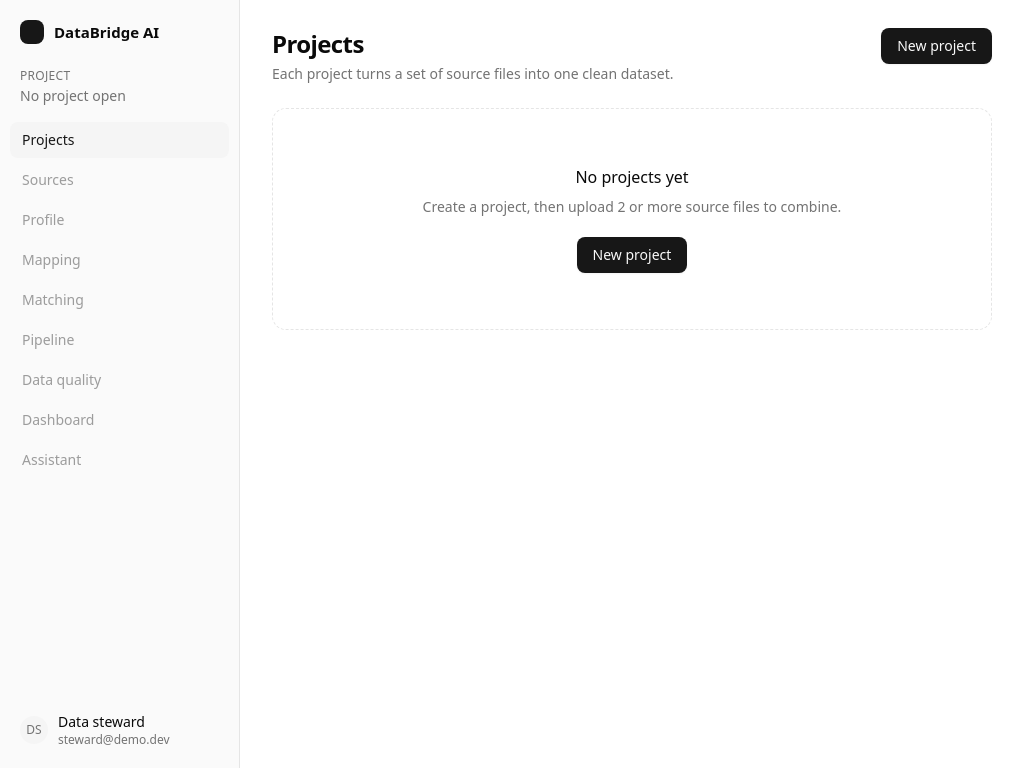
Test case: new project dialog › creates the project, confirms it and opens its sources step
The image size is (1024, 768).
Click the 1st button "New project": [937, 46] box [881, 28, 992, 64]
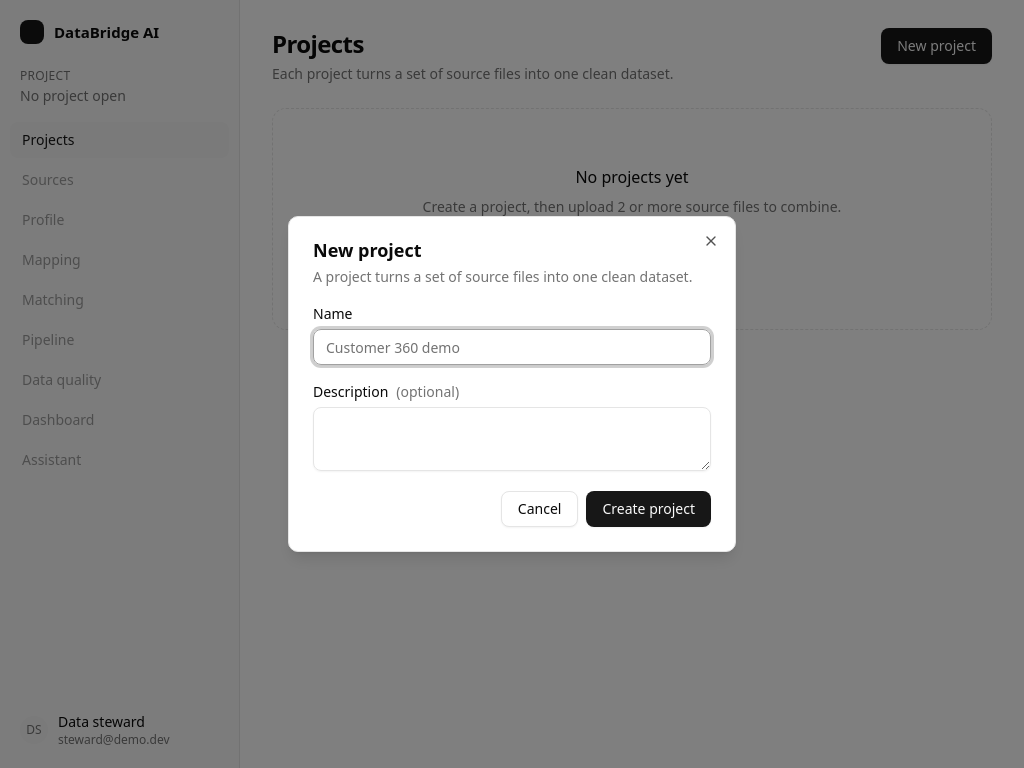
In the field labelled "Name": [512, 347] box [313, 329, 711, 365], type "Pharma product master"
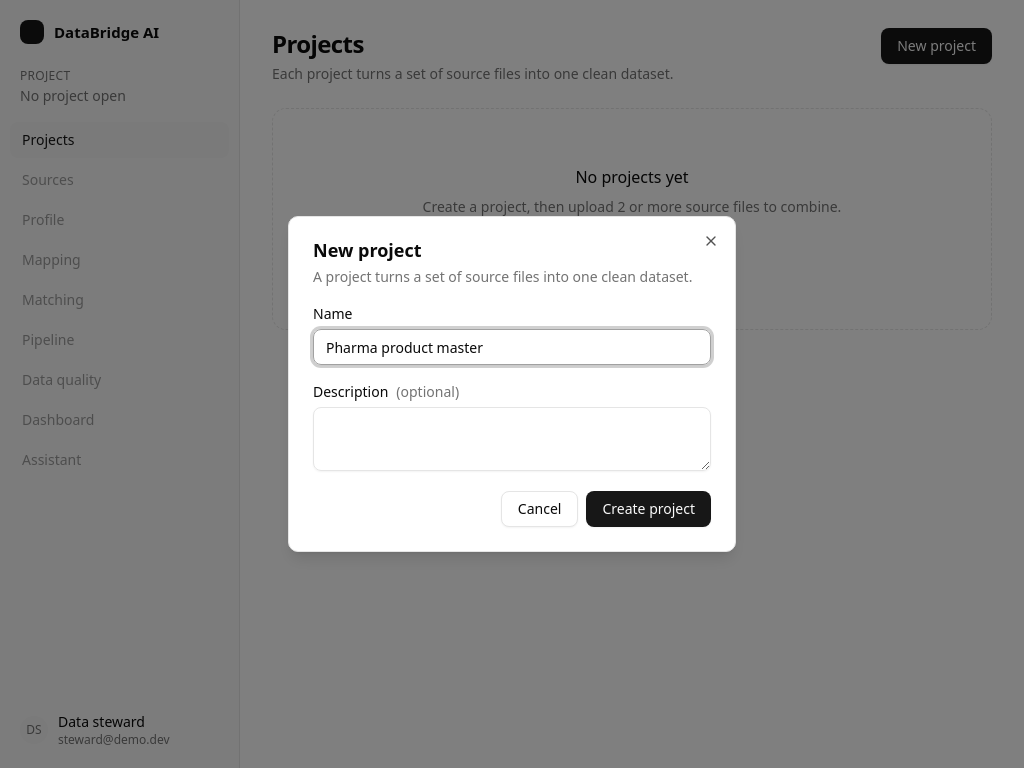
In the text box labelled "Description (optional)": [512, 439] box [313, 407, 711, 471], type "SKU clean-up"
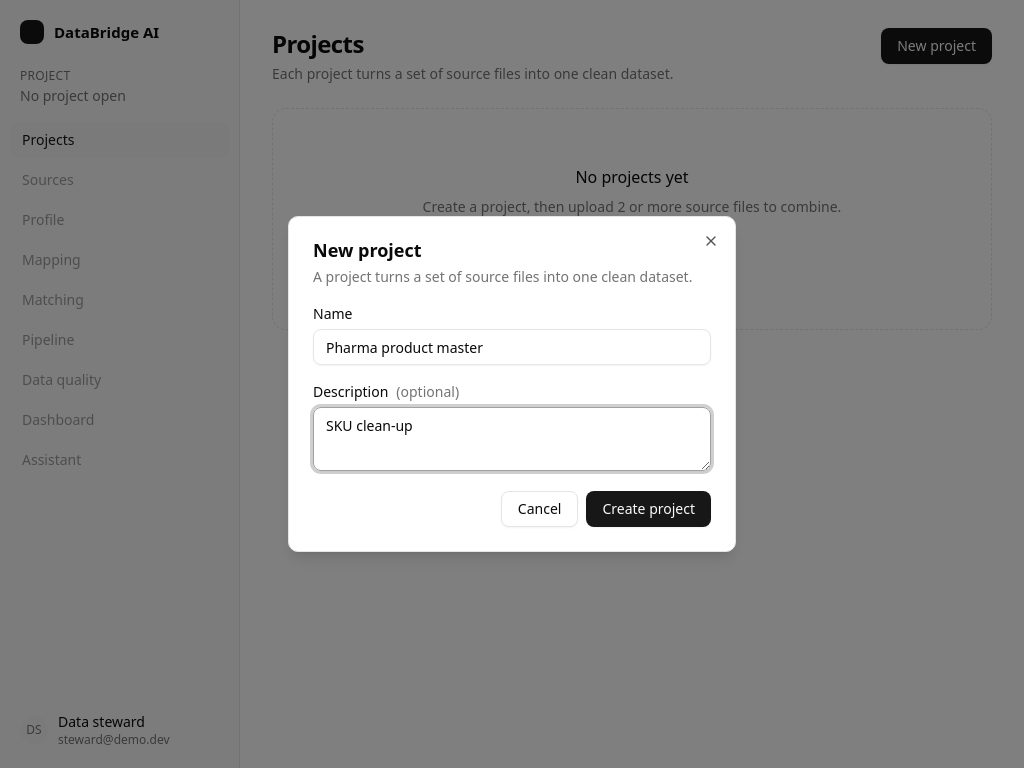
Click the button "Create project": [649, 509] box [586, 491, 711, 527]
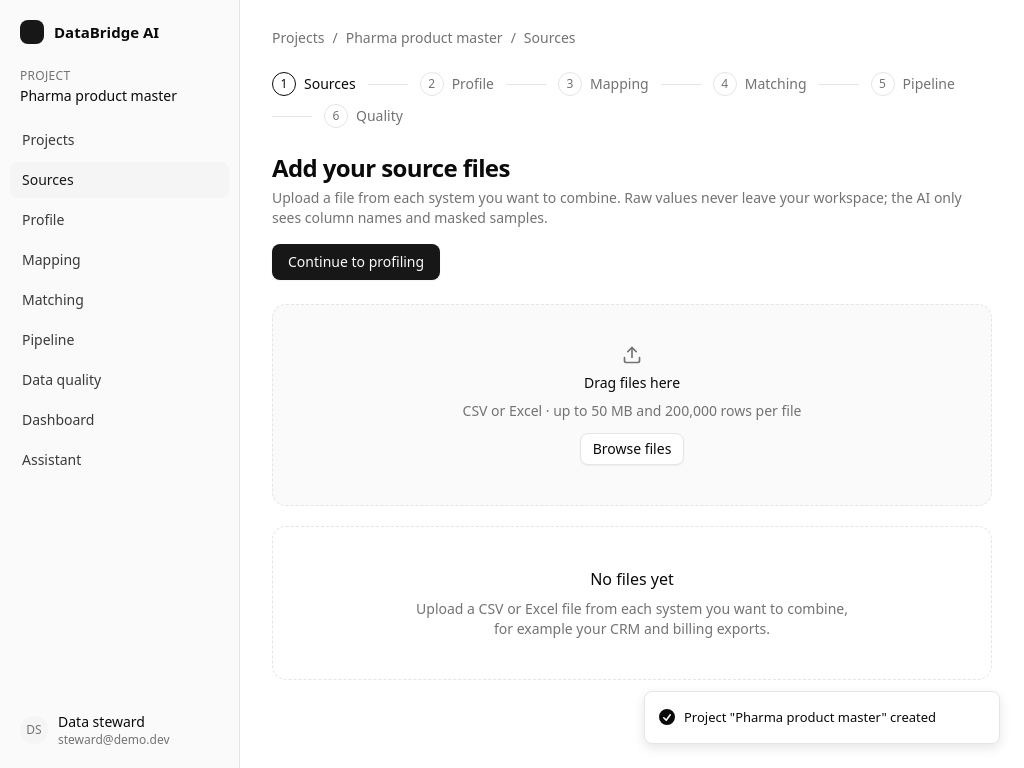
Check: the text "Project \"Pharma product master\" created" is shown, box [684, 708, 936, 727]
Check: the heading "Add your source files" is shown, box [272, 151, 510, 184]
Check: the heading "No files yet" is shown, box [590, 567, 674, 591]
